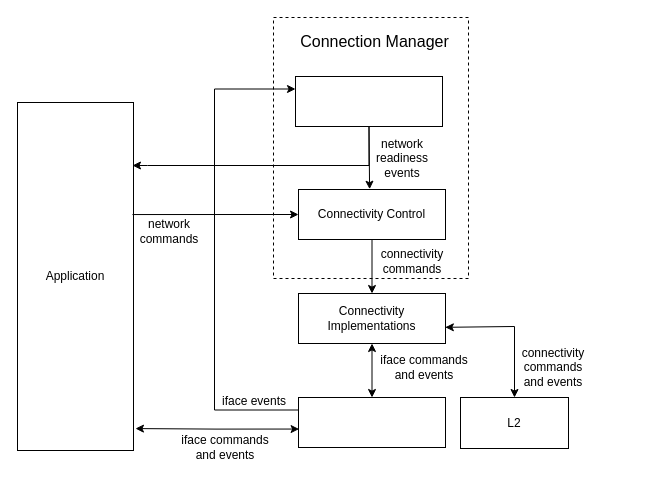
The diagram is 653 pixels wide and 480 high, and some of its shapes have lost their labels. The shapes that lost their labels are listed below. From the top down, each one's box as (x1, y1, x2, y2) in pixels, then its label:
(294, 76, 442, 126): Connectivity Monitoring
(298, 396, 446, 448): Zephyr ifaces
